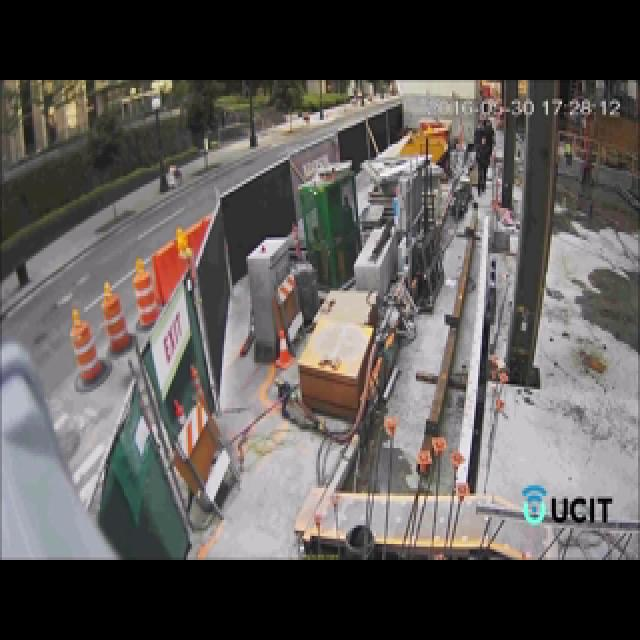arrest: (402, 64, 588, 370)
